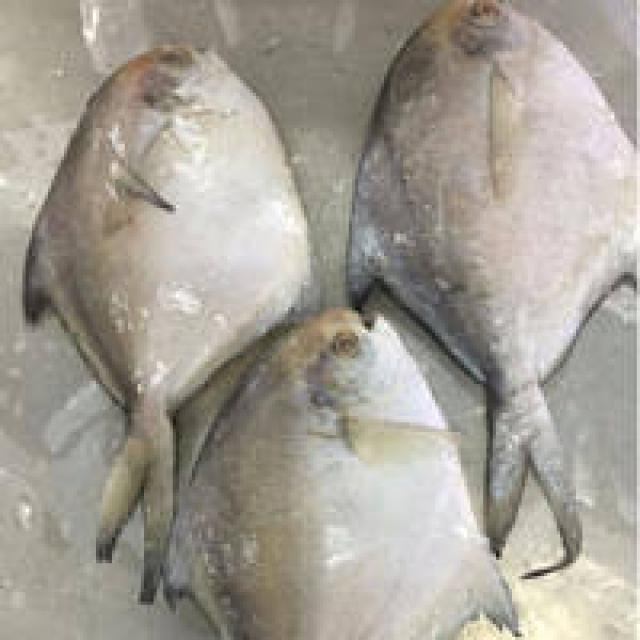pomfred: (29, 45, 316, 603)
